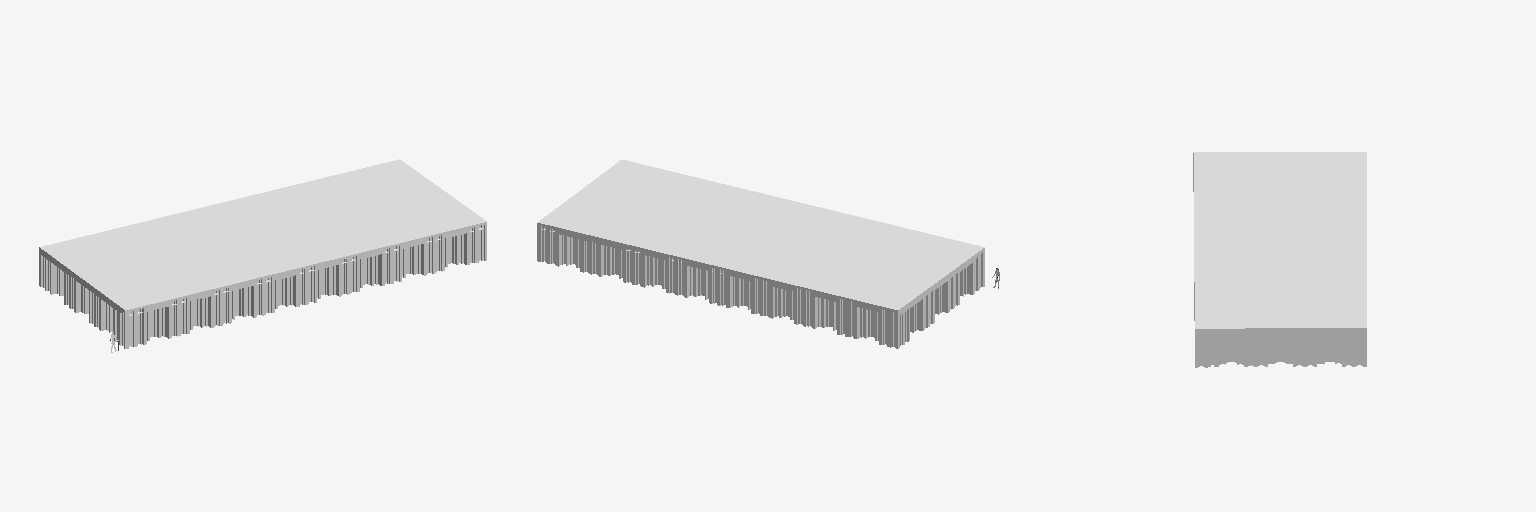
The picture shows the model from 3 angles: view 1: azimuth 30°, elevation 25°; view 2: azimuth 150°, elevation 25°; view 3: azimuth 270°, elevation 25°; orthographic projection.
Visible parts, largest first — view 1: Mesh1 Model; view 2: Mesh1 Model; view 3: Mesh1 Model.
Part boxes in pixels (left/top/right/bottom): Mesh1 Model: left=39, top=159, right=486, bottom=348; Mesh1 Model: left=537, top=160, right=984, bottom=348; Mesh1 Model: left=1193, top=152, right=1366, bottom=367.
Size of the model in its own units: 30.44 by 2.99 by 12.08.
3 materials, 2 textured.